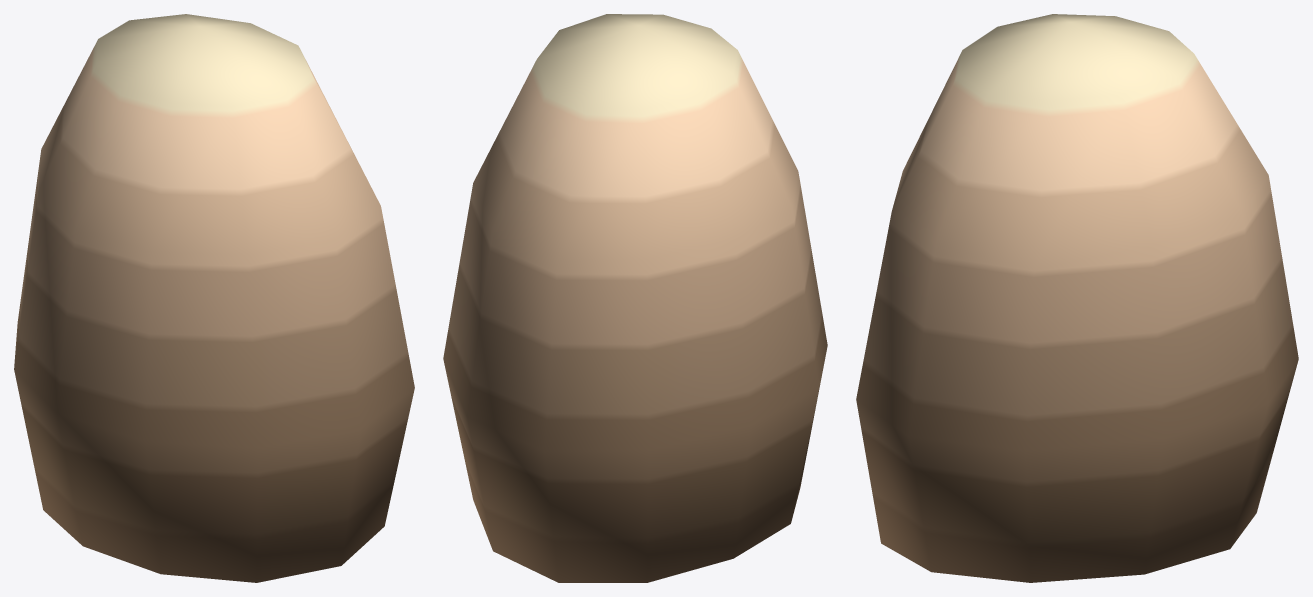
The model's file is rock_006.fbx.
3 renders of one model, left to right at view 1: azimuth 30°, elevation 25°; view 2: azimuth 150°, elevation 25°; view 3: azimuth 270°, elevation 25°, orthographic. The views are drawn at different scales.
Parts seen in each view (by area): view 1: rock.006; view 2: rock.006; view 3: rock.006.
Part boxes in pixels (x1,y1,x2,y2): rock.006: [14, 14, 414, 582]; rock.006: [443, 14, 827, 582]; rock.006: [856, 14, 1298, 582].
Bounding box in the file's own units: 24.56 × 36.82 × 27.49.
